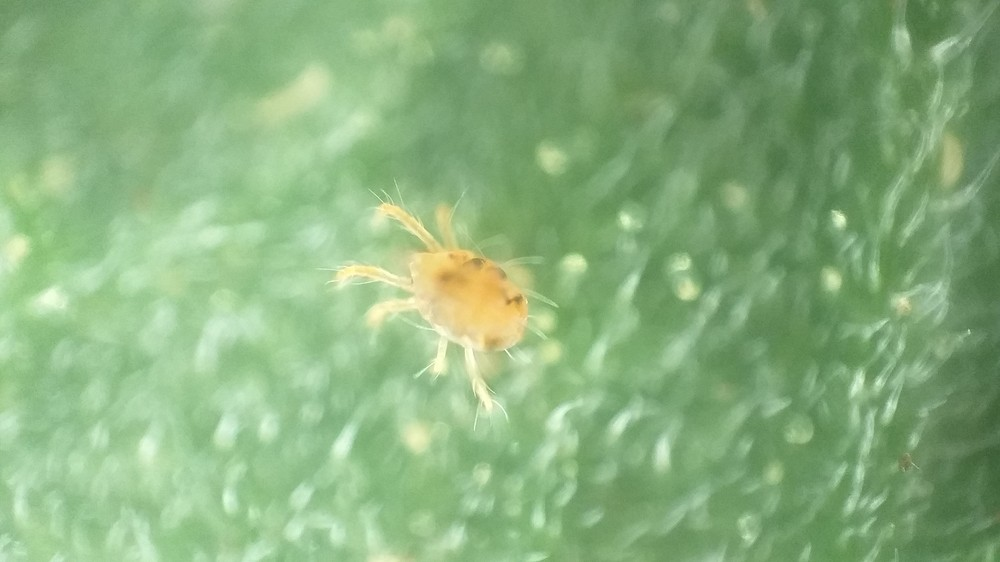Aracnido Rojo: (330, 192, 583, 420)
